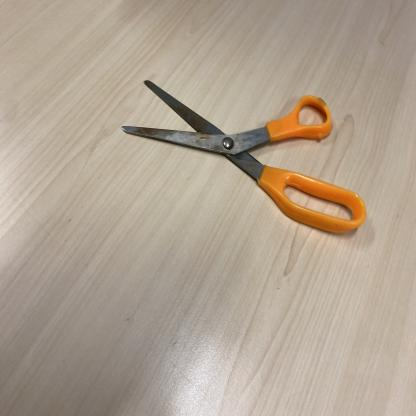scissors: (120, 78, 368, 236)
